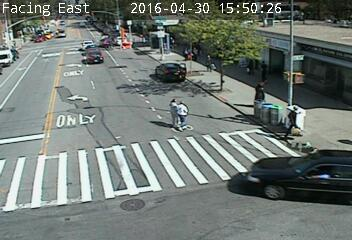neg: (69, 48, 94, 81), (112, 59, 124, 75), (122, 35, 128, 44)
pos: (278, 102, 307, 141)
